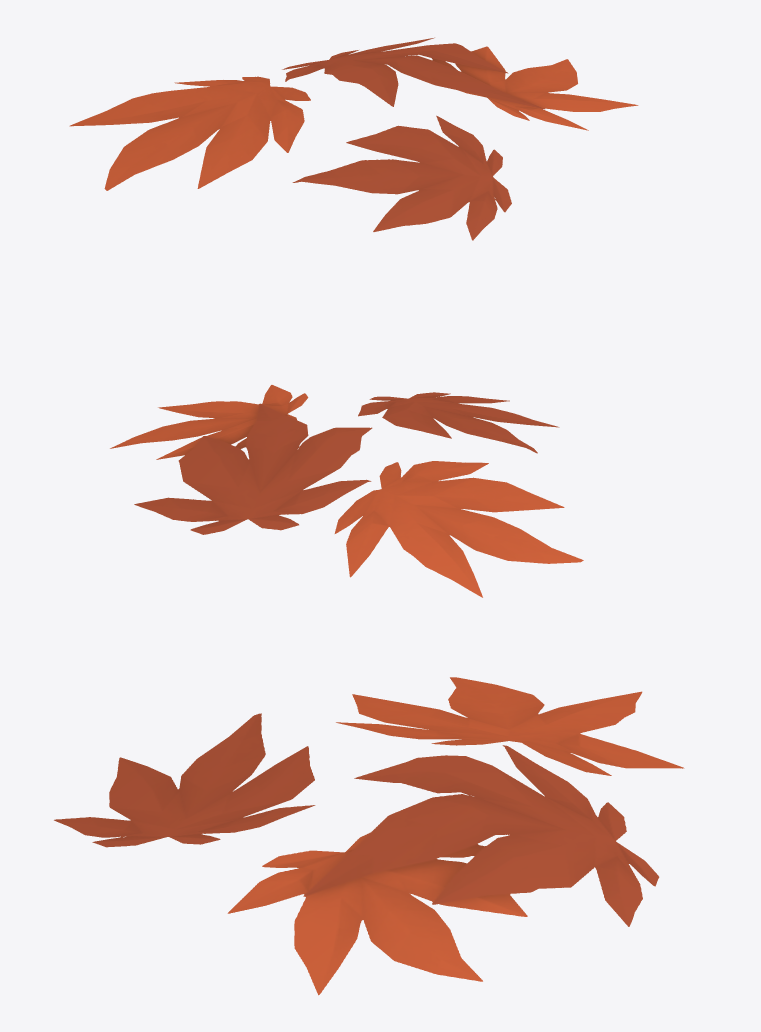
File: SM_Env_Maple_Small_02.fbx
The picture shows the model from 3 angles, top to bottom: view 1: azimuth 30°, elevation 25°; view 2: azimuth 150°, elevation 25°; view 3: azimuth 270°, elevation 25°; orthographic projection. The views are drawn at different scales.
Parts seen in each view (by area): view 1: SM_Env_Maple_Small_02; view 2: SM_Env_Maple_Small_02; view 3: SM_Env_Maple_Small_02.
Part boxes in pixels (x1,y1,x2,y2): SM_Env_Maple_Small_02: [69, 37, 638, 240]; SM_Env_Maple_Small_02: [110, 385, 583, 597]; SM_Env_Maple_Small_02: [54, 677, 684, 995].
Size of the model in its own units: 114 by 12.41 by 99.18.
